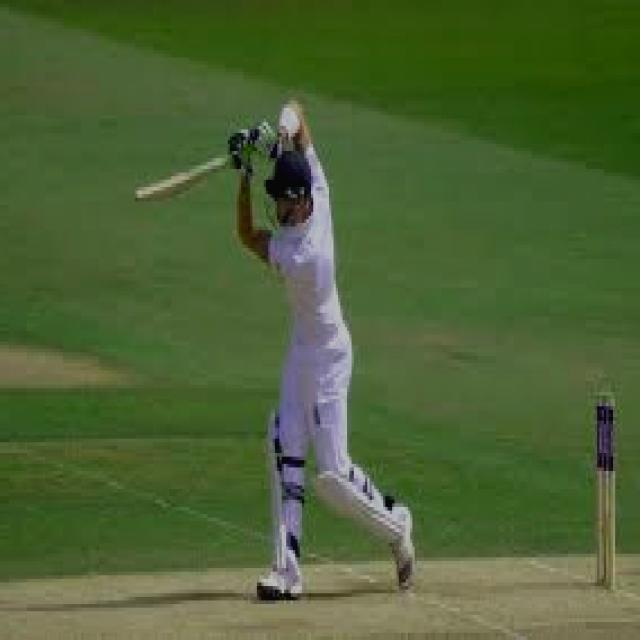toe: (123, 173, 160, 221)
